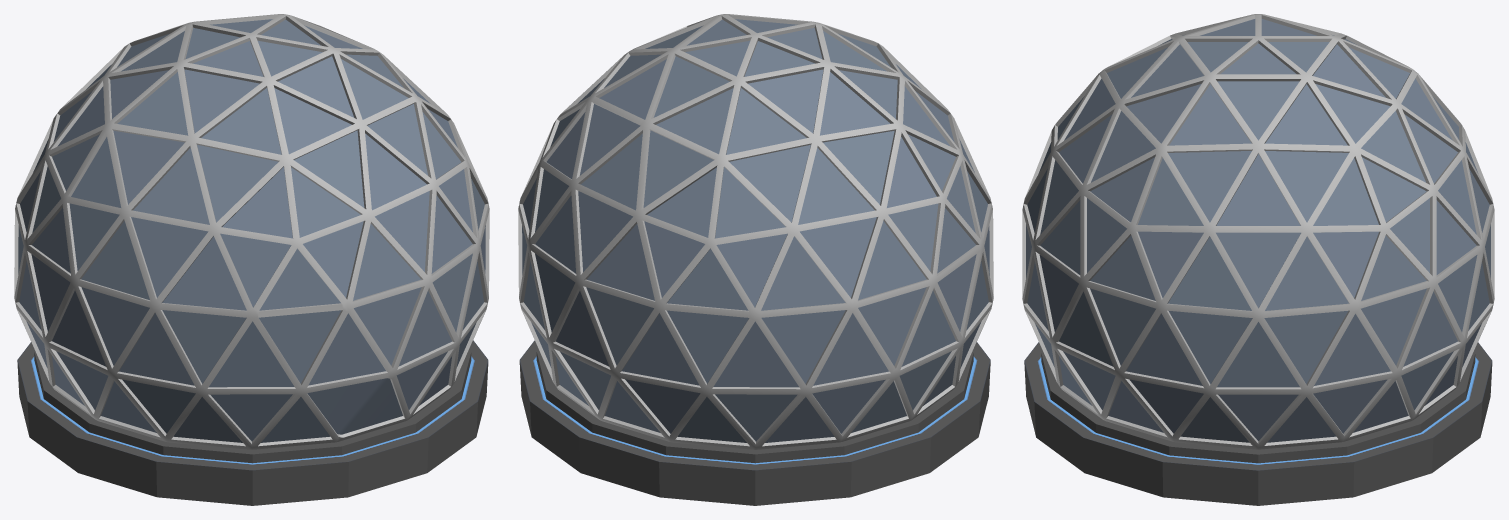
The model's file is GlassSphere.fbx.
3 views of the same model, side by side, from view 1: azimuth 30°, elevation 25°; view 2: azimuth 150°, elevation 25°; view 3: azimuth 270°, elevation 25° (orthographic).
Visible parts, largest first — view 1: pPlatonic1; view 2: pPlatonic1; view 3: pPlatonic1.
Part boxes in pixels (x1,y1,x2,y2): pPlatonic1: (14, 14, 489, 505); pPlatonic1: (518, 14, 993, 505); pPlatonic1: (1022, 14, 1494, 505).
Bounding box in the file's own units: 1.99 × 1.71 × 1.99.
